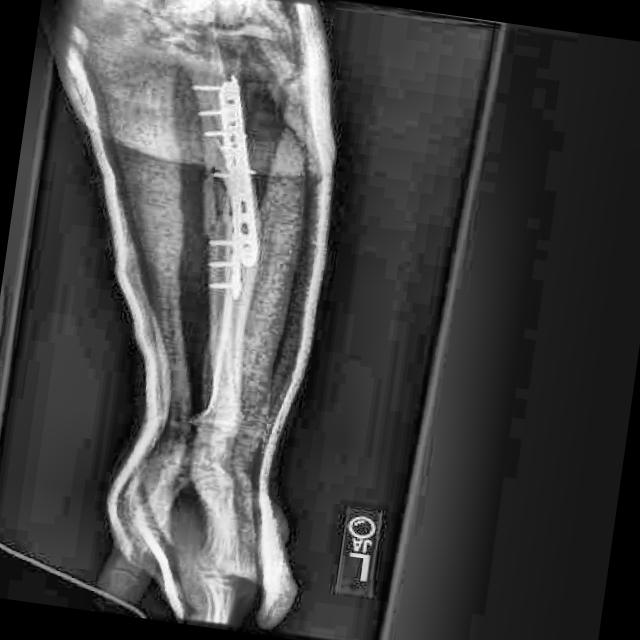forearm fracture: (181, 161, 238, 268)
